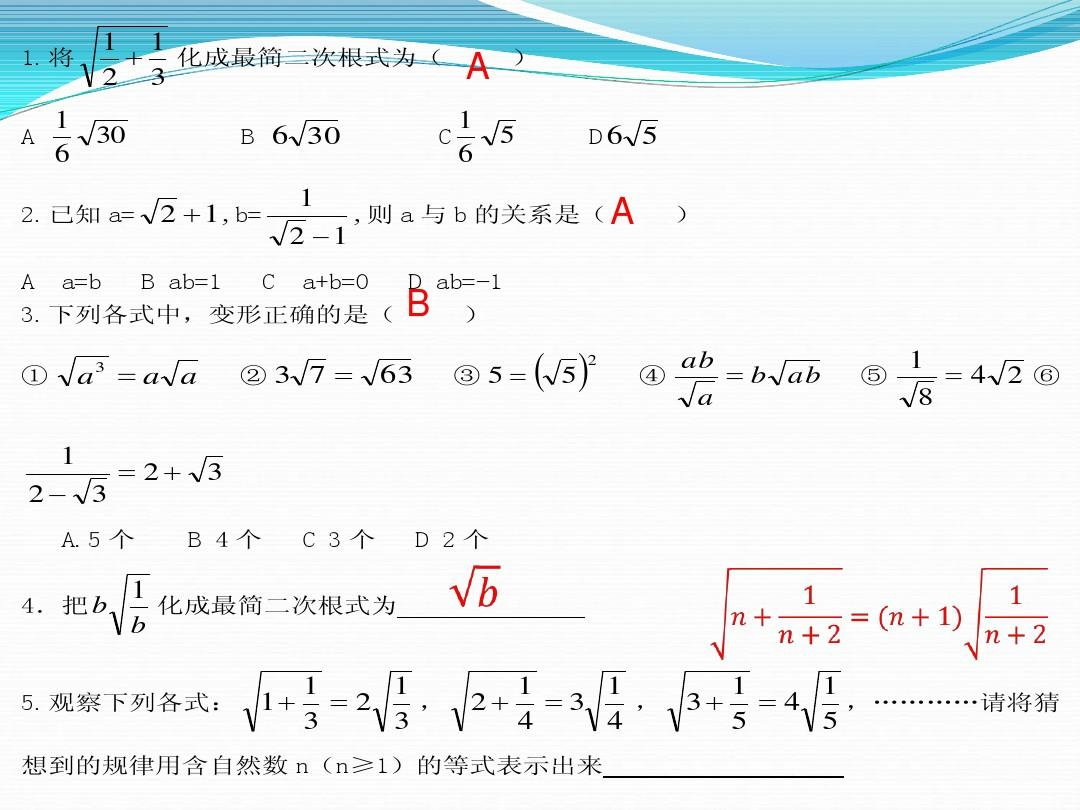cube: (93, 358, 110, 379)
division: (15, 464, 111, 488), (773, 609, 845, 628), (261, 208, 352, 223), (977, 610, 1048, 625), (892, 370, 939, 386), (666, 370, 723, 383), (118, 603, 152, 615), (145, 53, 172, 68), (49, 131, 77, 145), (297, 696, 322, 710), (811, 700, 839, 712), (99, 55, 123, 68), (726, 698, 746, 713), (594, 699, 623, 709)
sqrt: (714, 552, 852, 661), (70, 19, 178, 90), (974, 564, 1046, 664), (453, 667, 533, 743), (244, 666, 320, 736), (672, 670, 753, 733), (114, 569, 152, 644), (378, 667, 415, 744), (357, 354, 421, 398), (445, 564, 504, 610), (769, 354, 831, 394), (804, 669, 839, 737), (59, 348, 103, 399), (286, 116, 341, 154), (589, 668, 620, 732), (184, 447, 225, 495), (157, 356, 202, 396), (78, 113, 131, 146), (266, 214, 311, 252), (139, 194, 179, 235), (620, 115, 658, 156), (989, 352, 1020, 394), (484, 117, 520, 152), (544, 354, 578, 390), (292, 354, 322, 393), (686, 376, 714, 417), (73, 476, 109, 507), (903, 380, 933, 413)
square: (585, 350, 601, 374)
